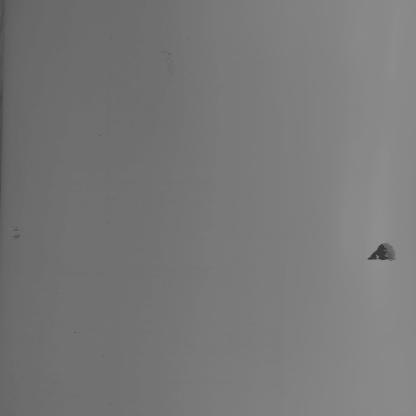kongdong: (359, 235, 404, 269)
